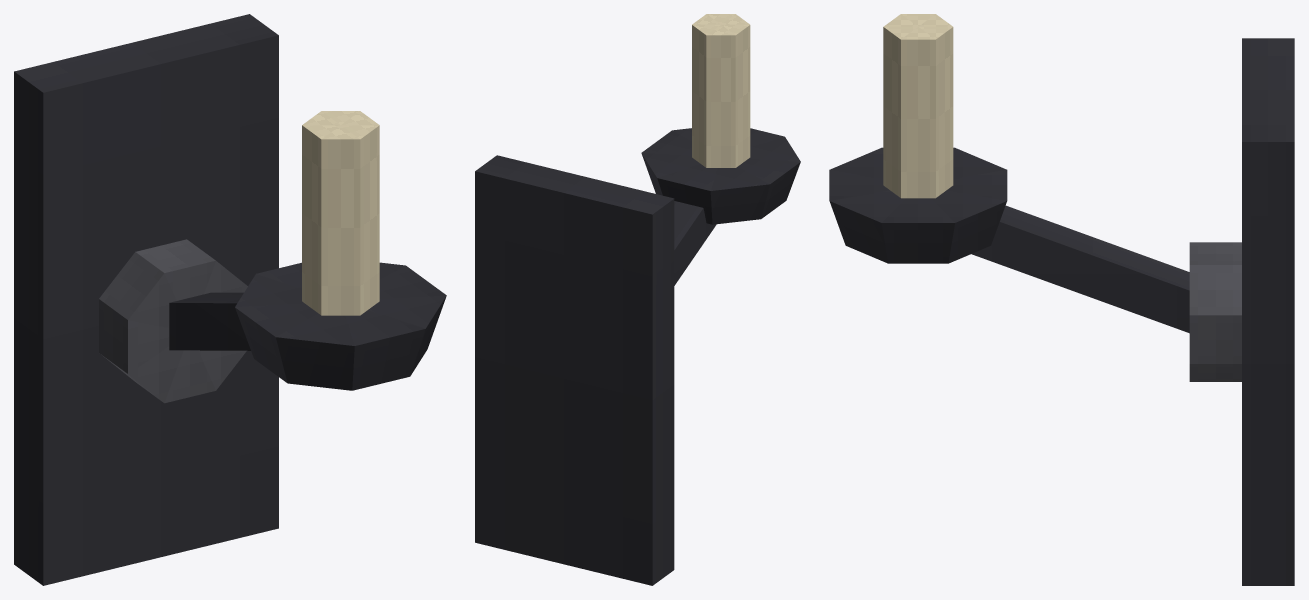
File: secret-turning-sconce.glb
The picture shows the model from 3 angles, left to right: view 1: azimuth 30°, elevation 25°; view 2: azimuth 150°, elevation 25°; view 3: azimuth 270°, elevation 25°; orthographic projection. The views are drawn at different scales.
Visible parts, largest first — view 1: plate, sconce; view 2: plate, sconce; view 3: sconce, plate.
Part boxes in pixels (x1,y1,x2,y2): plate: (14, 14, 278, 585); sconce: (169, 111, 446, 390); plate: (475, 155, 674, 585); sconce: (641, 14, 800, 285); sconce: (829, 14, 1189, 333); plate: (1189, 38, 1294, 585).
Bounding box in the file's own units: 0.14 × 0.32 × 0.2658.
Materials: 1 (1 with a texture image).
